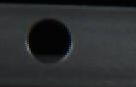holes: (26, 16, 72, 65)
